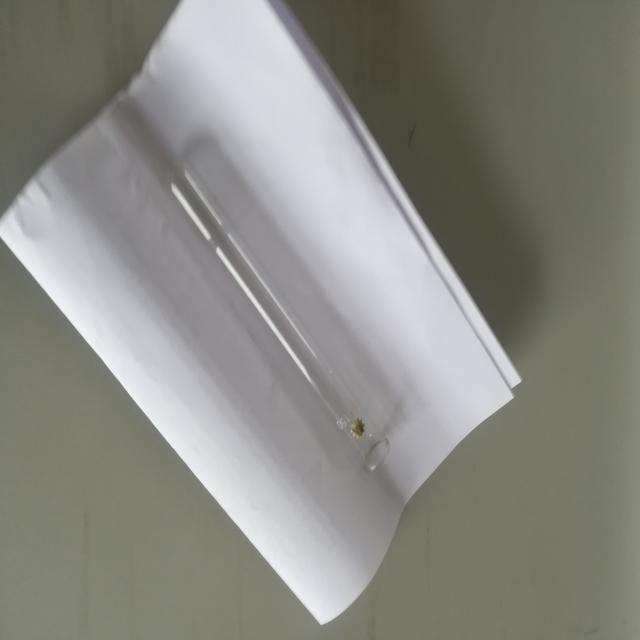Test_Tube: (115, 125, 415, 513)
